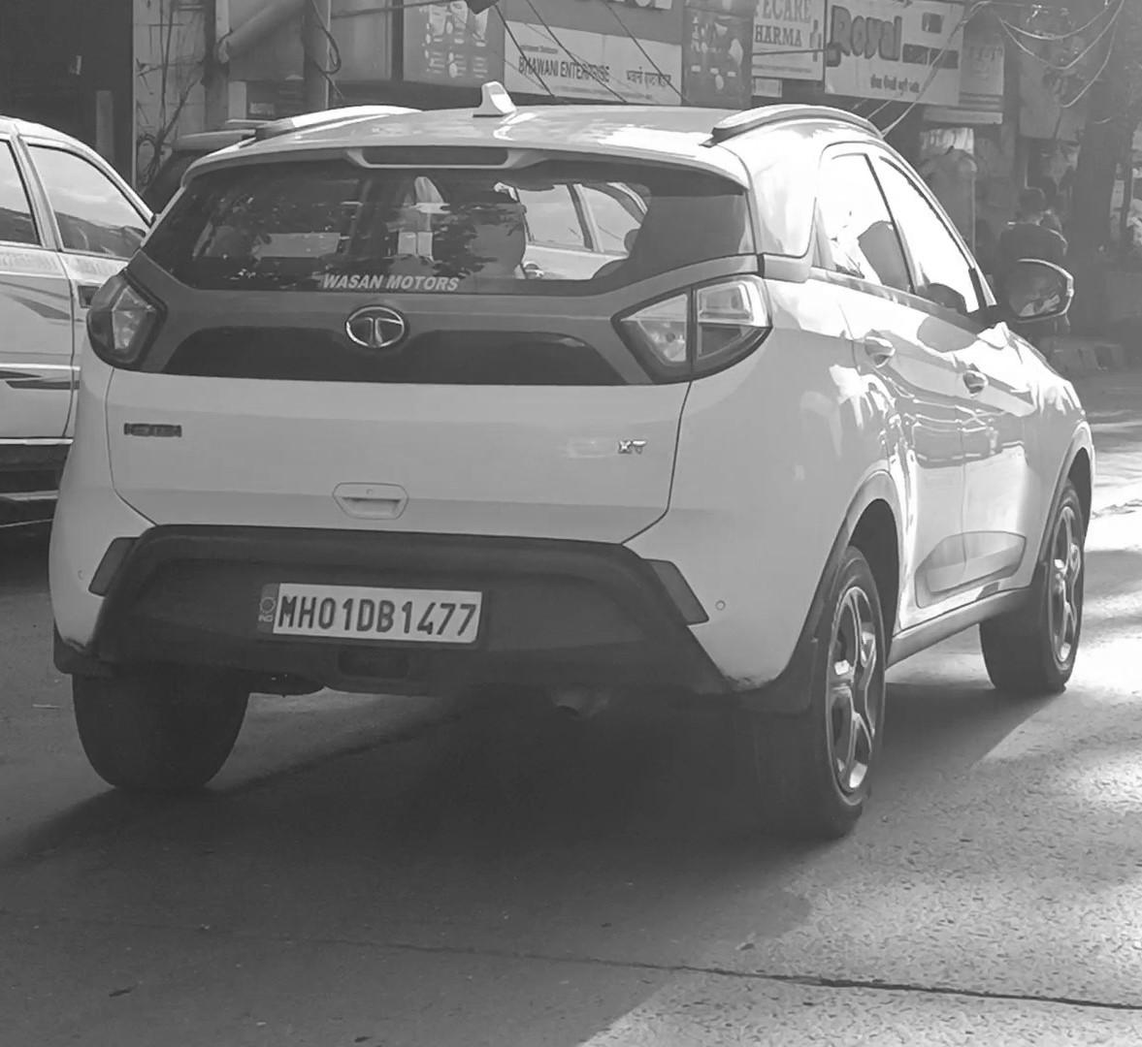number_plate: (268, 580, 487, 652)
